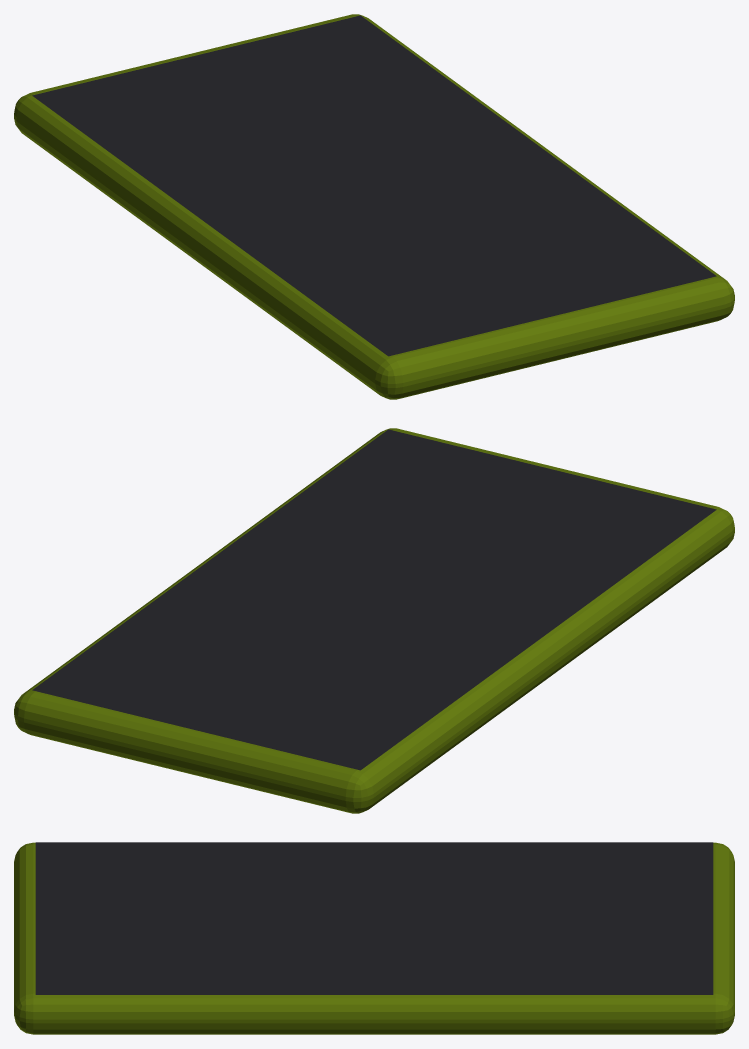
The model's file is google-pixel-model-374-mid-range-2025.glb.
3 views of the same model, one above another, from view 1: azimuth 30°, elevation 25°; view 2: azimuth 150°, elevation 25°; view 3: azimuth 270°, elevation 25° (orthographic). The views are drawn at different scales.
Visible parts, largest first — view 1: Phone_Screen, Phone_Body; view 2: Phone_Screen, Phone_Body; view 3: Phone_Screen, Phone_Body.
Boxes of the visible parts, box(x1,y1,x2,y2) form: Phone_Screen: box(32, 15, 716, 356); Phone_Body: box(14, 14, 734, 399); Phone_Screen: box(32, 429, 716, 770); Phone_Body: box(14, 428, 734, 813); Phone_Screen: box(35, 842, 713, 994); Phone_Body: box(14, 842, 734, 1034).
Size of the model in its own units: 0.0799 by 0.0089 by 0.1469.
